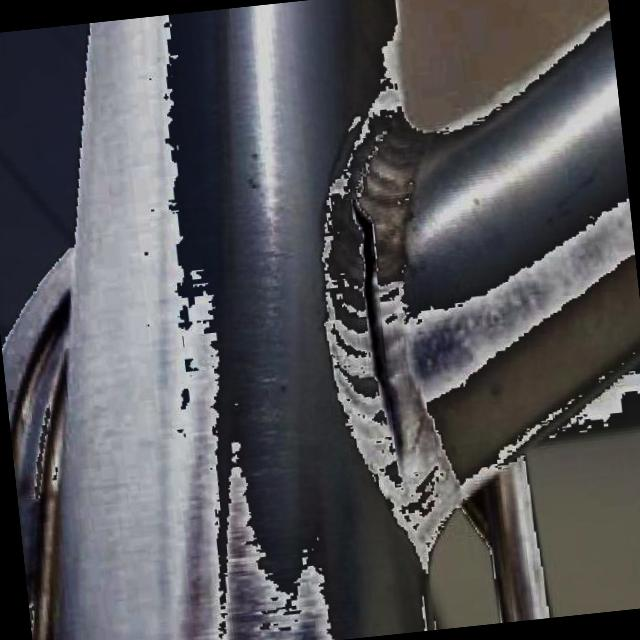crack: (350, 198, 402, 468)
